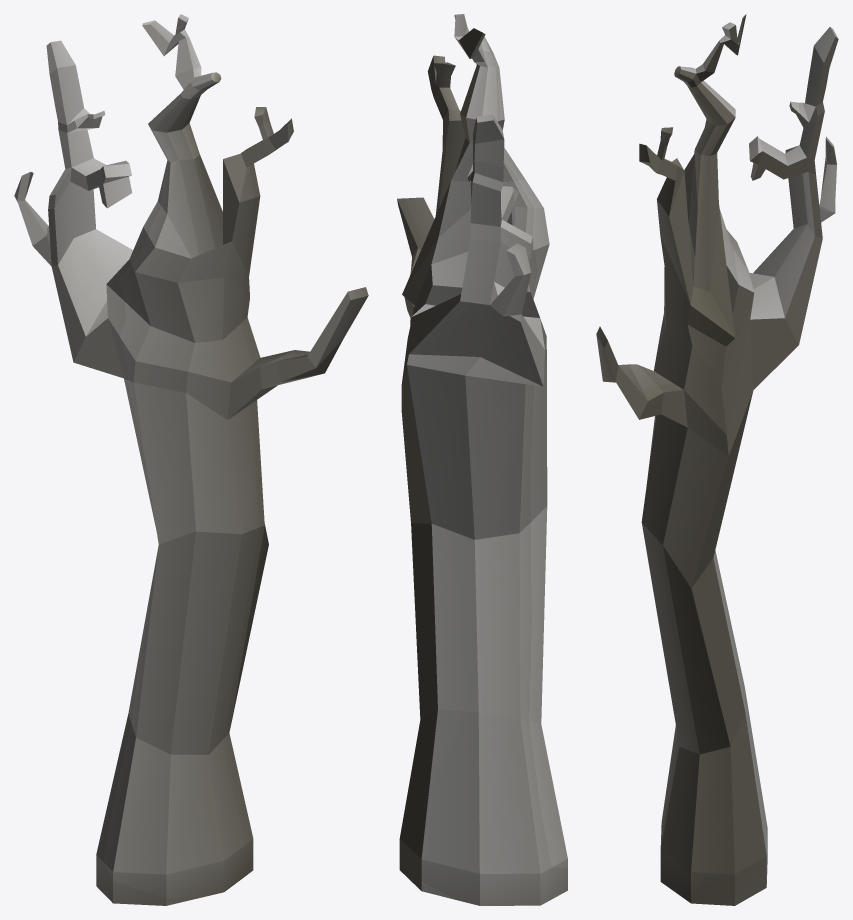
Rendered from spookyTree4.fbx.
3 views of the same model, side by side, from view 1: azimuth 30°, elevation 25°; view 2: azimuth 150°, elevation 25°; view 3: azimuth 270°, elevation 25° (orthographic).
Visible parts, largest first — view 1: spooky tree.004; view 2: spooky tree.004; view 3: spooky tree.004.
Part boxes in pixels (bbox=[...]): spooky tree.004: bbox=[14, 14, 368, 905]; spooky tree.004: bbox=[397, 14, 567, 905]; spooky tree.004: bbox=[596, 14, 838, 905].
Bounding box in the file's own units: 783 × 2644 × 680.
